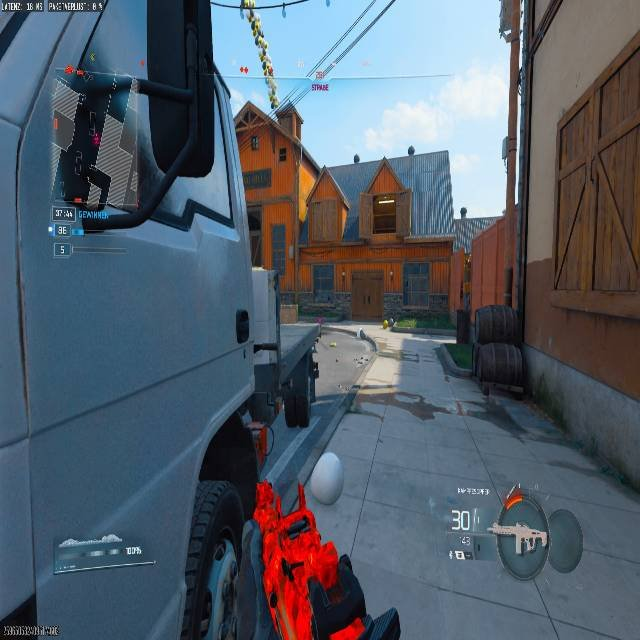player: (51, 54, 126, 211)
